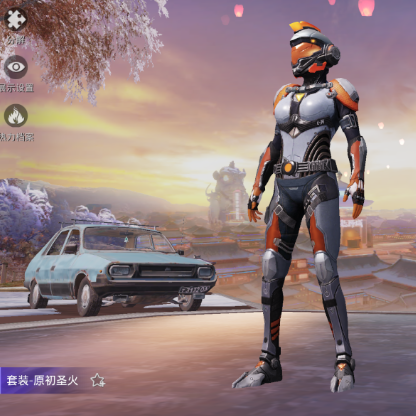ren: (242, 19, 362, 393)
tou: (290, 21, 341, 85)
